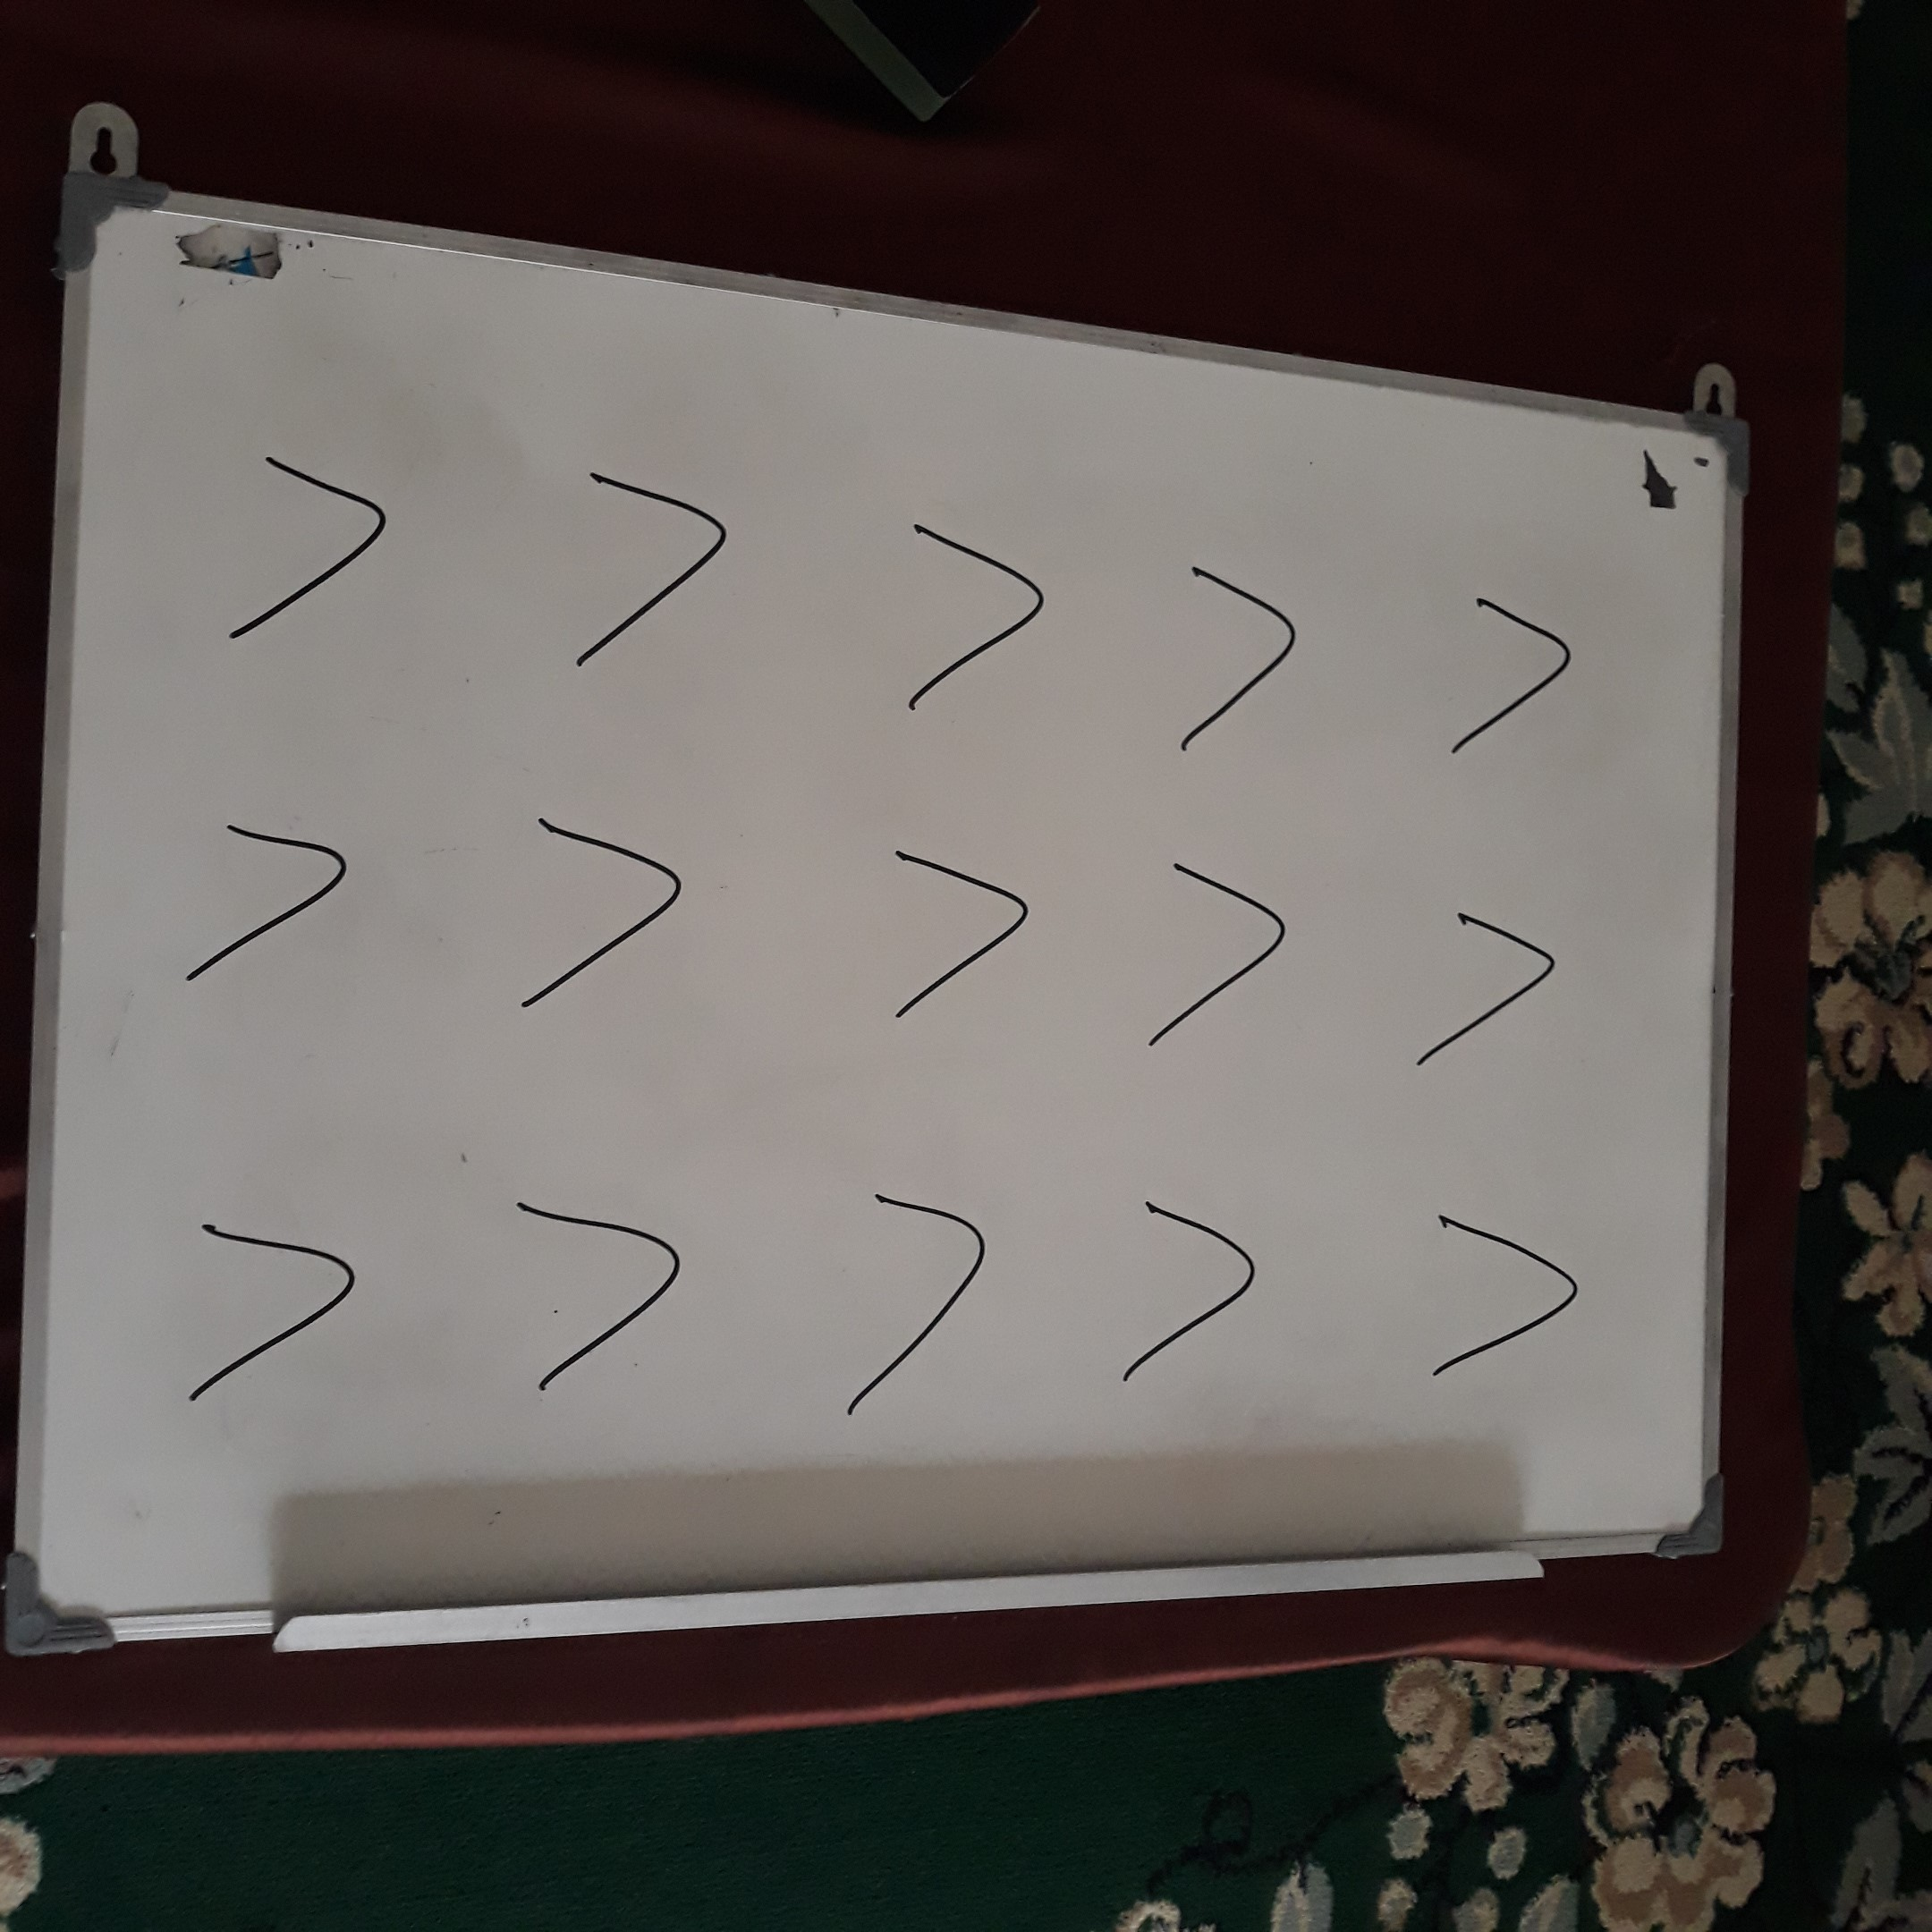morethan: (1400, 1156, 1585, 1423), (817, 1163, 1002, 1430), (1100, 1154, 1285, 1421), (873, 490, 1063, 729), (864, 805, 1054, 1044), (209, 414, 399, 653), (547, 440, 736, 679), (1141, 531, 1331, 770), (1408, 545, 1597, 784), (173, 767, 362, 1005), (501, 789, 691, 1028), (1116, 823, 1306, 1062), (1393, 861, 1582, 1100), (173, 1187, 362, 1426), (497, 1166, 687, 1405)
